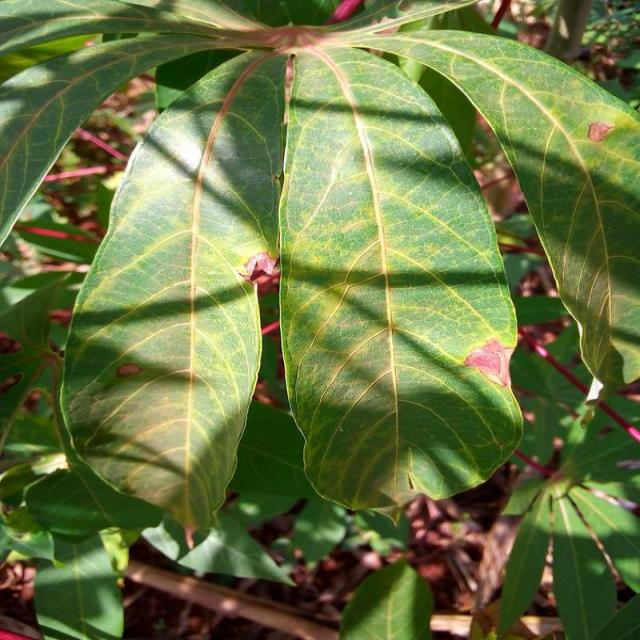cassava leaf: (277, 42, 525, 520), (58, 45, 289, 533)
